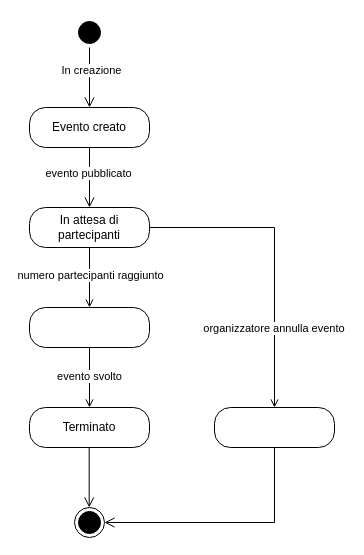
Image size: 364x555. Some labels were removed from this diagram. The box of each missing label's shape, as (x1, y1, x2, y2) in pixels:
Annullato: (214, 406, 334, 448)
Confermato: (28, 306, 150, 348)
